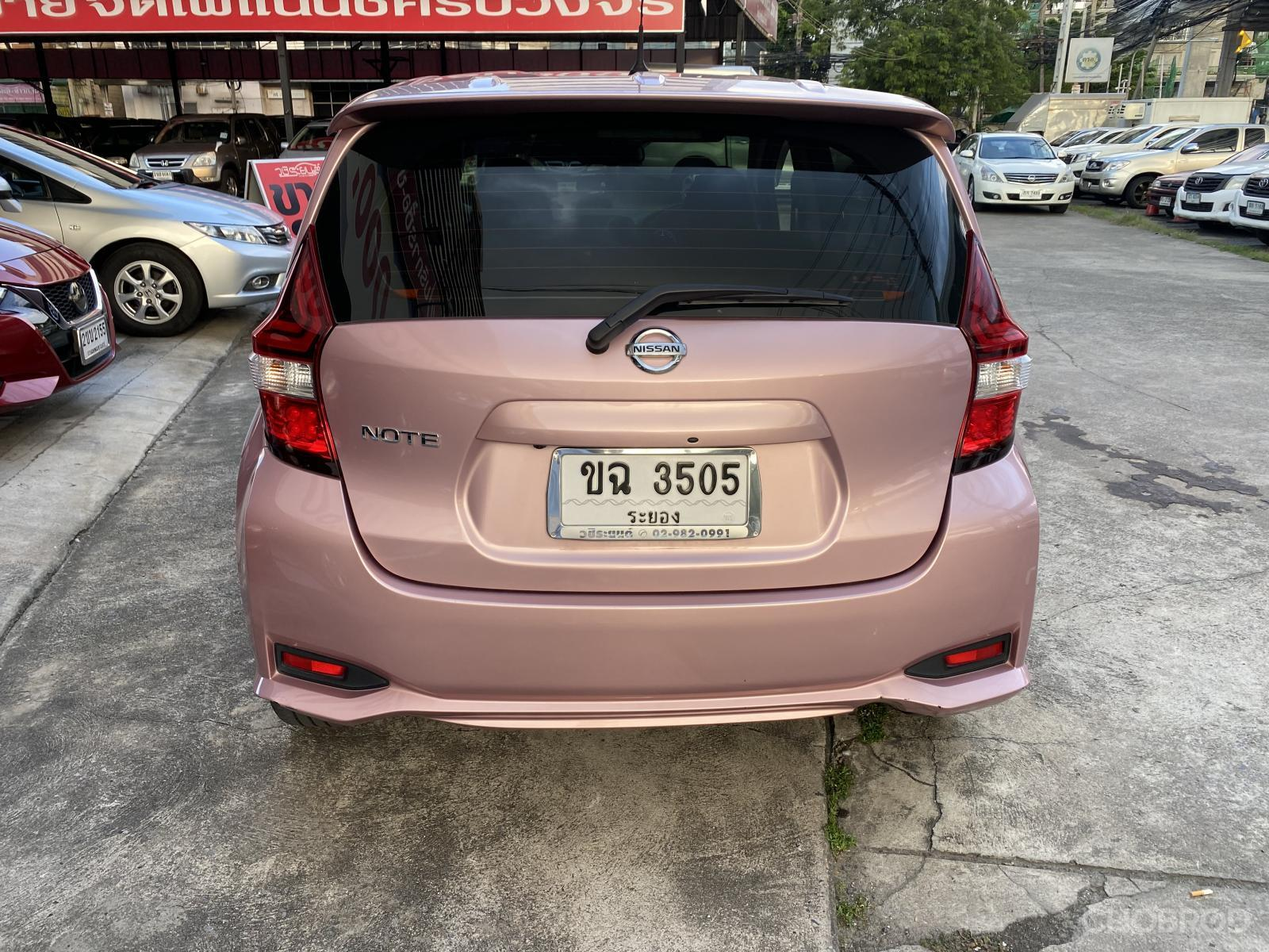license-plate: (532, 438, 775, 557)
